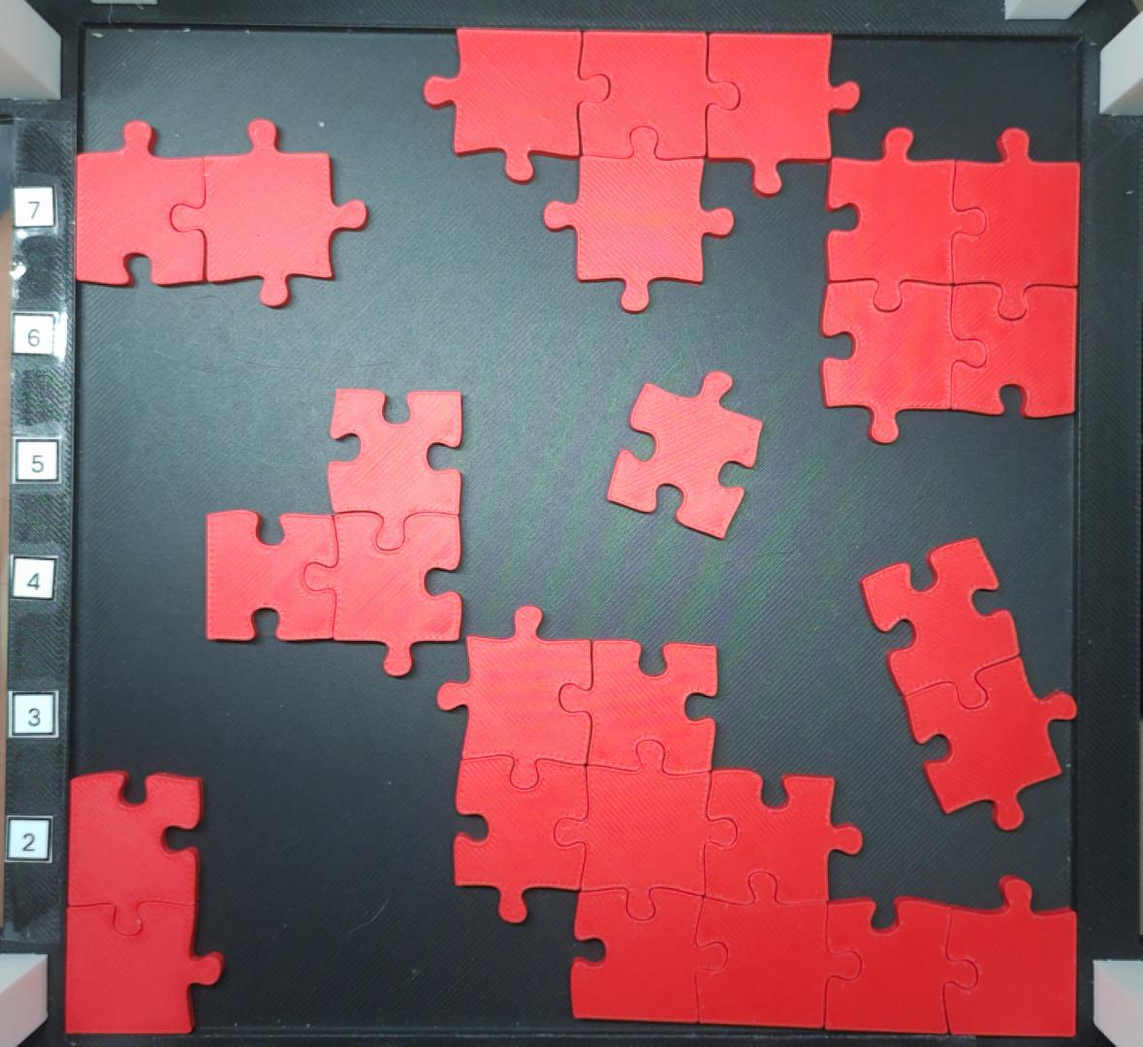p_1: (605, 367, 767, 543)
p_2: (858, 533, 1080, 834), (74, 116, 372, 312), (61, 770, 225, 1040)
p_3: (204, 383, 467, 678)
p_4: (420, 24, 865, 314), (819, 125, 1083, 447)
p_m: (433, 602, 1080, 1041)
